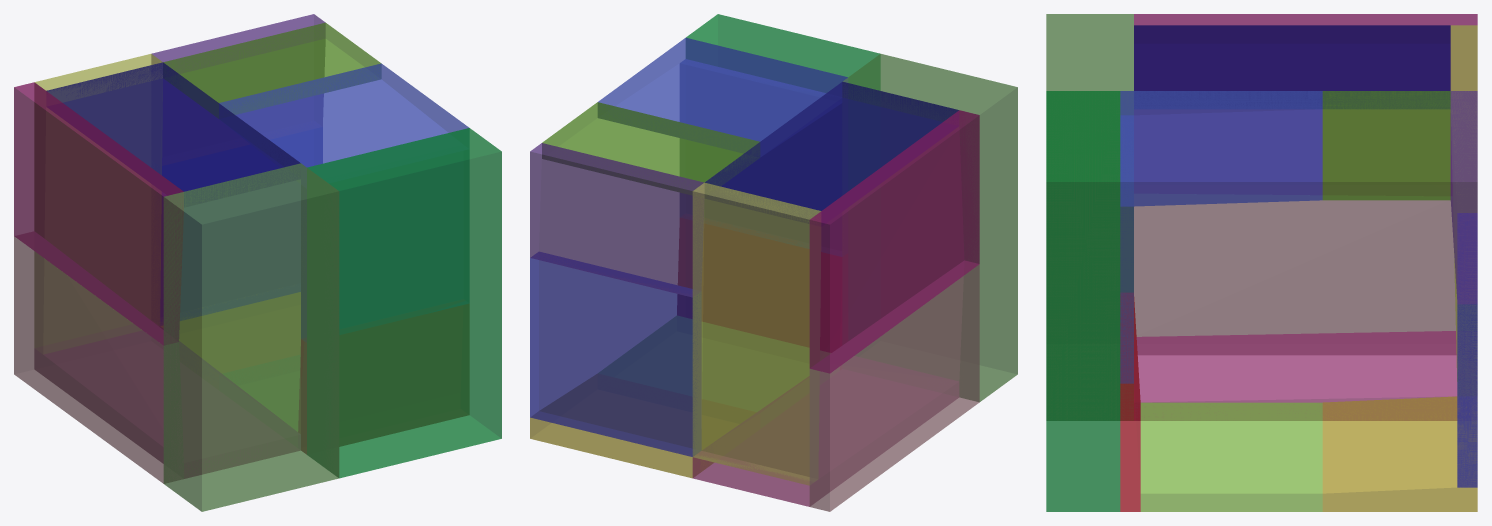
Rendered from OvenMain.obj.
3 views of the same model, side by side, from view 1: azimuth 30°, elevation 25°; view 2: azimuth 150°, elevation 25°; view 3: azimuth 270°, elevation 25° (orthographic). The views are drawn at different scales.
Parts seen in each view (by area): view 1: Shape_IndexedFaceSet.001_Shape_IndexedFaceSet.256; view 2: Shape_IndexedFaceSet.001_Shape_IndexedFaceSet.256; view 3: Shape_IndexedFaceSet.001_Shape_IndexedFaceSet.256.
Boxes of the visible parts, x1=… form: Shape_IndexedFaceSet.001_Shape_IndexedFaceSet.256: x1=14, y1=14, x2=501, y2=511; Shape_IndexedFaceSet.001_Shape_IndexedFaceSet.256: x1=530, y1=14, x2=1017, y2=511; Shape_IndexedFaceSet.001_Shape_IndexedFaceSet.256: x1=1046, y1=14, x2=1477, y2=511.
Size of the model in its own units: 0.5608 by 0.5133 by 0.6084.
